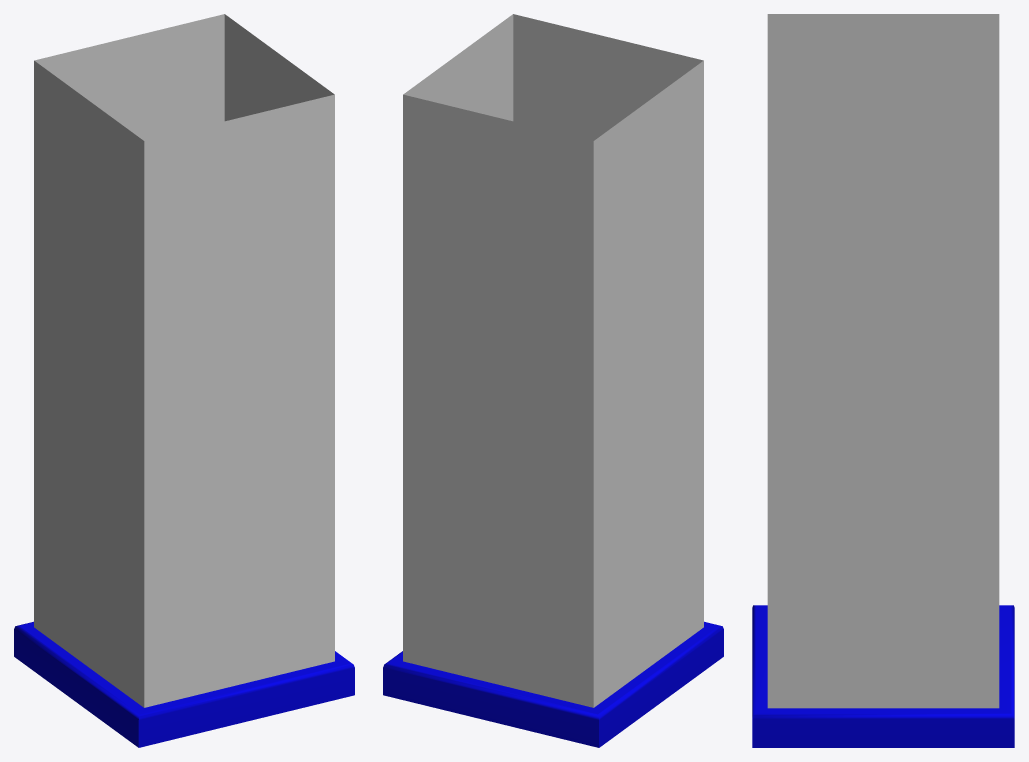
The model's file is PlainColumn.fbx.
3 renders of one model, left to right at view 1: azimuth 30°, elevation 25°; view 2: azimuth 150°, elevation 25°; view 3: azimuth 270°, elevation 25°, orthographic. The views are drawn at different scales.
Visible parts, largest first — view 1: Wall, Trim; view 2: Wall, Trim; view 3: Wall, Trim.
Boxes of the visible parts, x1,y1,x2,y2 form: Wall: [34, 14, 334, 707]; Trim: [14, 621, 354, 747]; Wall: [403, 14, 703, 707]; Trim: [383, 621, 723, 747]; Wall: [767, 14, 999, 708]; Trim: [752, 605, 1014, 747].
Size of the model in its own units: 4.54 by 12 by 4.54.
